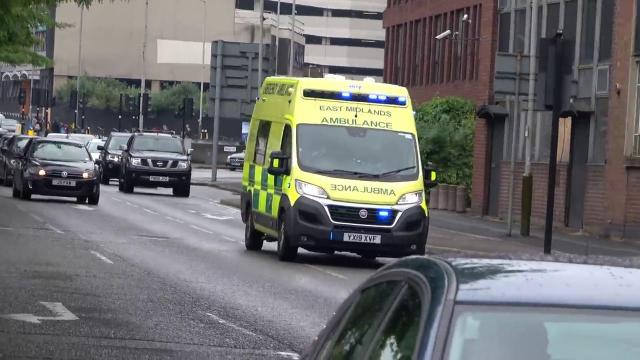police_car: (240, 71, 431, 264)
